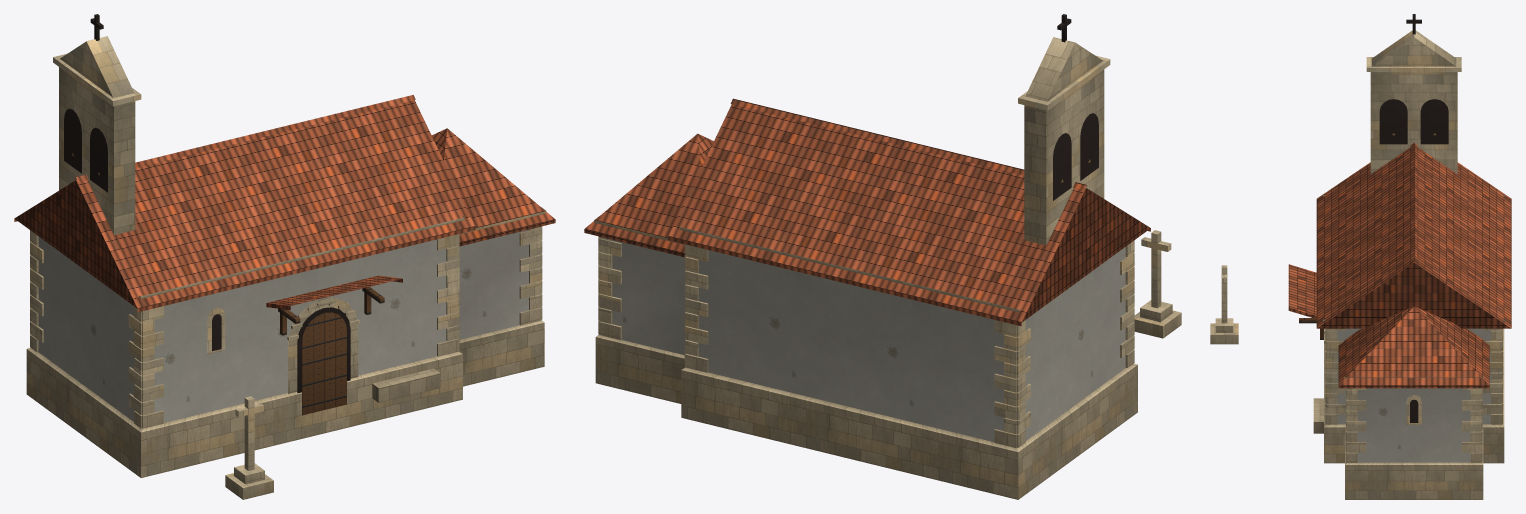
Rendered from ermita_huertos.glb.
3 renders of one model, left to right at view 1: azimuth 30°, elevation 25°; view 2: azimuth 150°, elevation 25°; view 3: azimuth 270°, elevation 25°, orthographic. The views are drawn at different scales.
Parts seen in each view (by area): view 1: ermita_huertos; view 2: ermita_huertos; view 3: ermita_huertos.
Part boxes in pixels (bbox=[...]): ermita_huertos: bbox=[14, 14, 555, 499]; ermita_huertos: bbox=[584, 14, 1181, 499]; ermita_huertos: bbox=[1210, 14, 1511, 499].
Bounding box in the file's own units: 15.35 × 14.2 × 11.75.
Materials: 6 (6 with a texture image).
